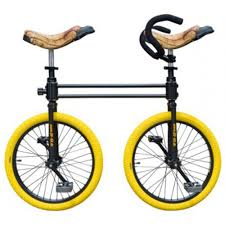seat: (137, 15, 215, 50), (23, 26, 94, 48)
wheel: (5, 112, 105, 211), (124, 111, 222, 212)
